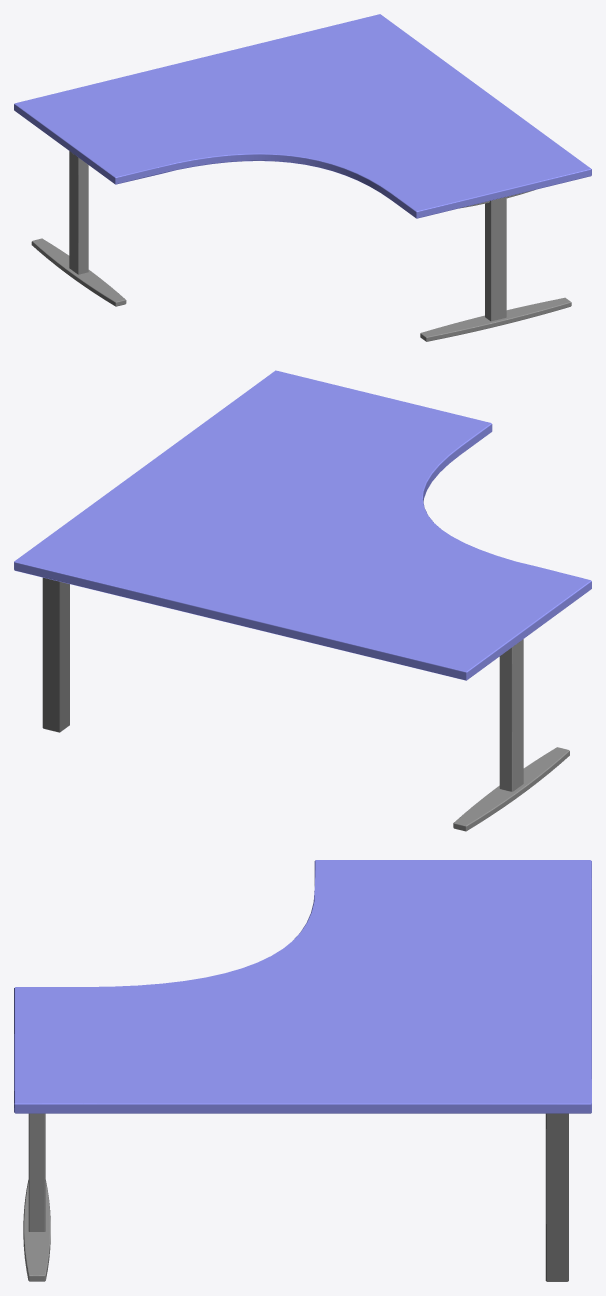
File: Corner.FBX
3 renders of one model, top to bottom at view 1: azimuth 30°, elevation 25°; view 2: azimuth 150°, elevation 25°; view 3: azimuth 270°, elevation 25°, orthographic. The views are drawn at different scales.
Parts seen in each view (by area): view 1: MESH, Object011, Object010; view 2: MESH, Object010, Object012; view 3: MESH, Object012, Object011.
Boxes of the visible parts, left/top/right/bottom form: MESH: left=14, top=14, right=591, bottom=218; Object011: left=420, top=190, right=571, bottom=341; Object010: left=31, top=151, right=126, bottom=306; MESH: left=14, top=370, right=591, bottom=680; Object010: left=453, top=639, right=569, bottom=831; Object012: left=42, top=577, right=69, bottom=732; MESH: left=14, top=860, right=591, bottom=1113; Object012: left=545, top=1113, right=568, bottom=1281; Object011: left=23, top=1113, right=50, bottom=1281.
Size of what is drawn, in the model's own units: 250 by 90 by 250.
